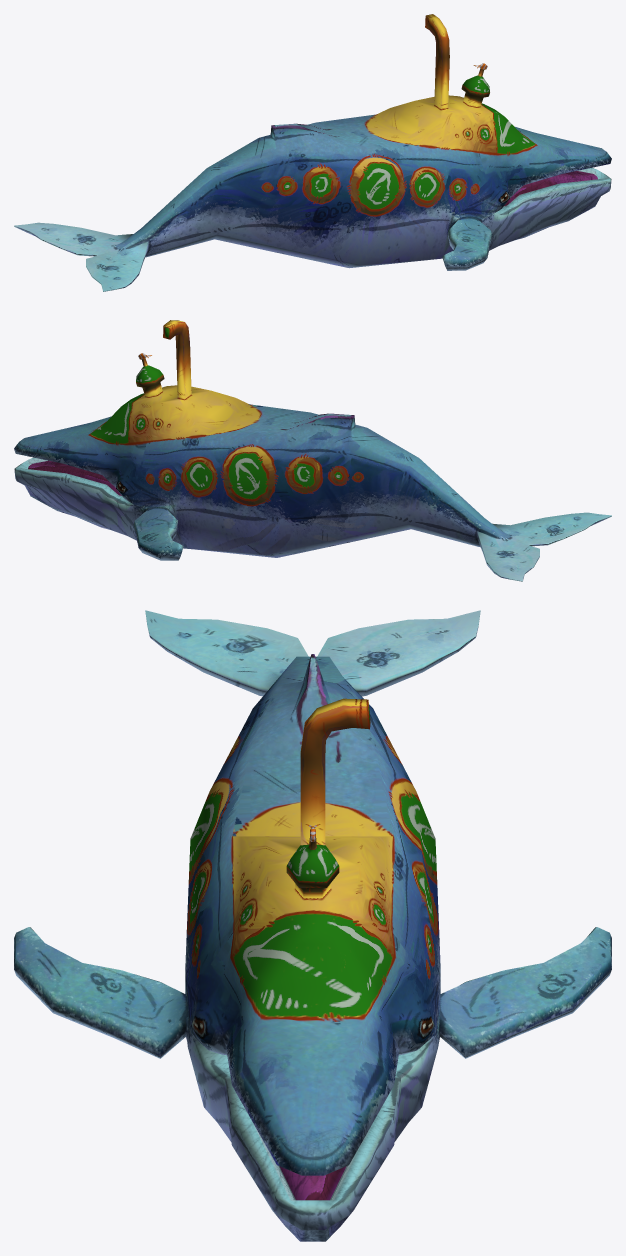
File: Humpback_Whale_Submarine_2.fbx
3 views of the same model, one above another, from view 1: azimuth 30°, elevation 25°; view 2: azimuth 150°, elevation 25°; view 3: azimuth 270°, elevation 25° (orthographic). The views are drawn at different scales.
Visible parts, largest first — view 1: Humpback_Whale_Submarine1; view 2: Humpback_Whale_Submarine1; view 3: Humpback_Whale_Submarine1.
Boxes of the visible parts, x1,y1,x2,y2 form: Humpback_Whale_Submarine1: (14,14,611,291); Humpback_Whale_Submarine1: (14,320,611,581); Humpback_Whale_Submarine1: (14,610,611,1241).
Size of the model in its own units: 2.91 by 1.12 by 1.46.
Materials: 1 (1 with a texture image).
